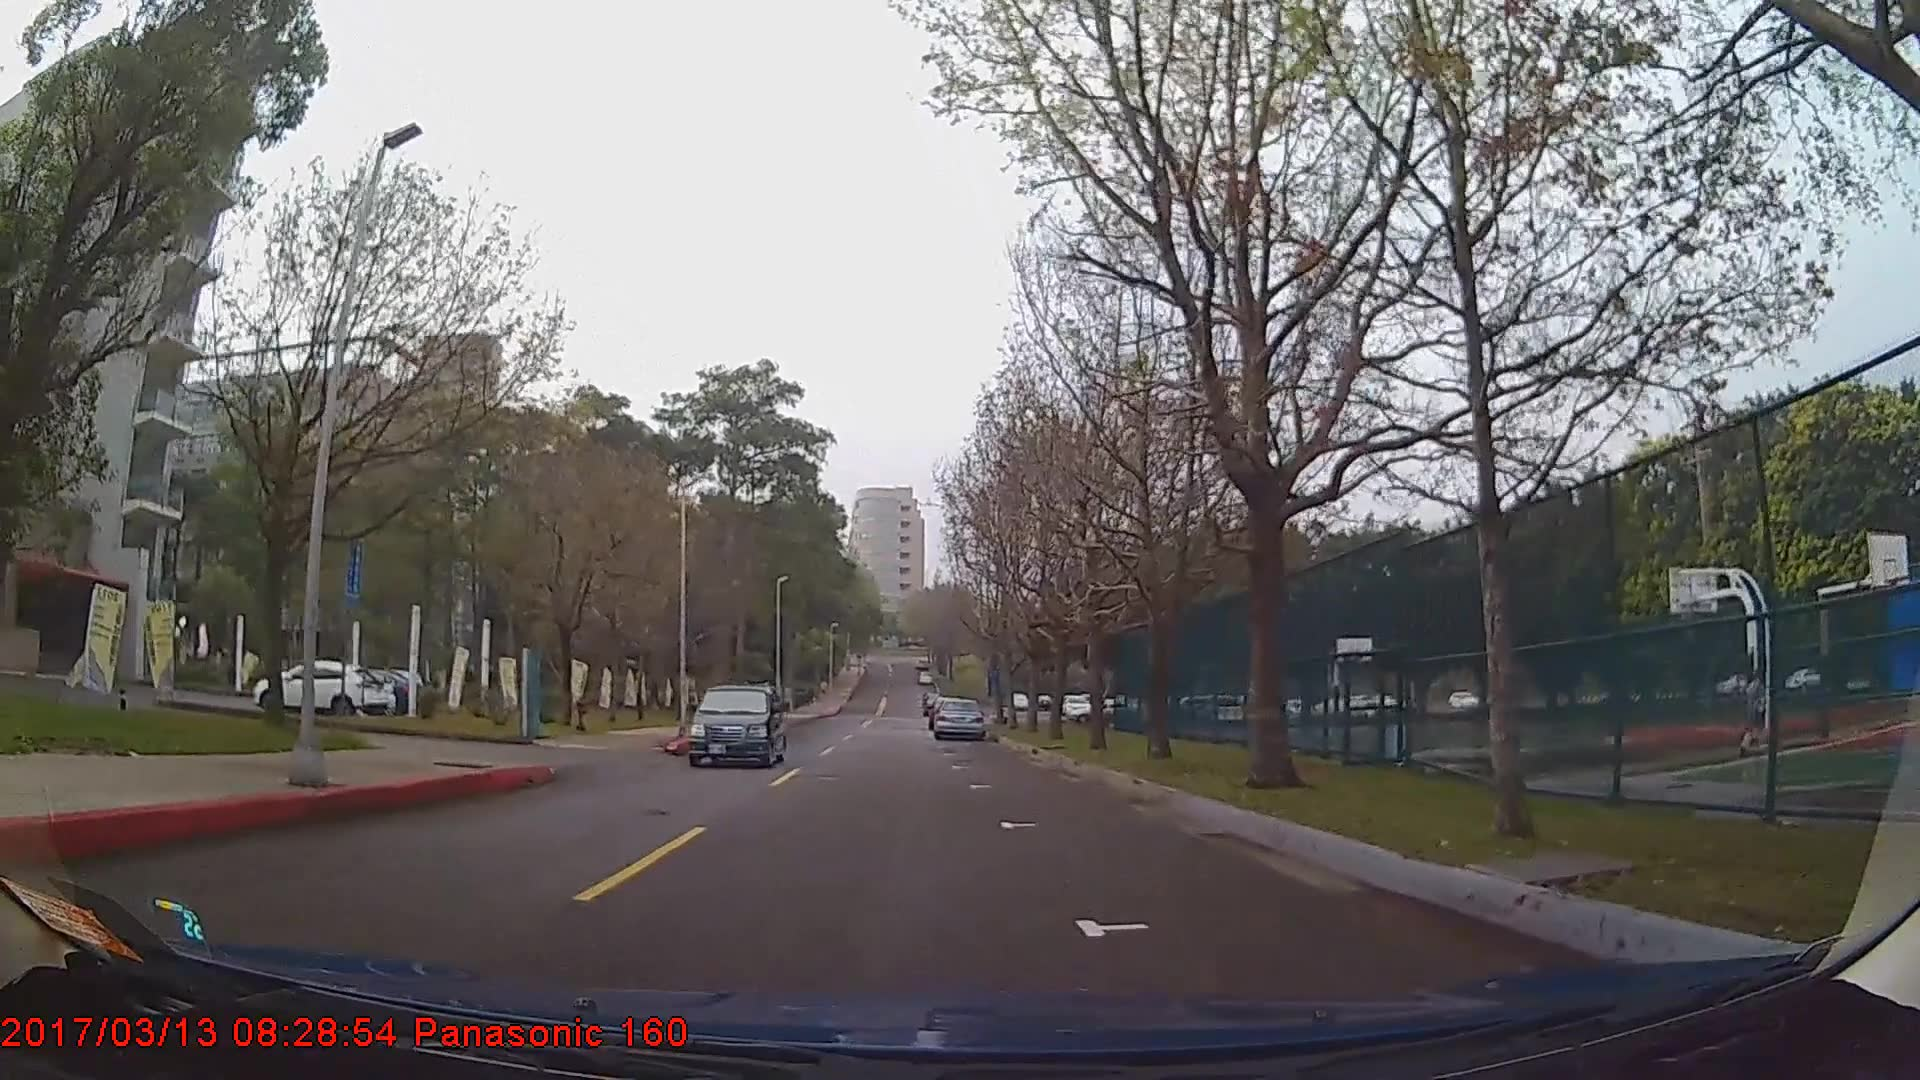vehicle: (686, 680, 789, 767), (255, 659, 385, 717), (932, 695, 985, 740)
